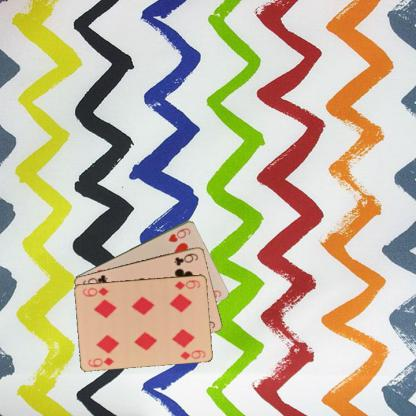6c: (172, 251, 199, 267)
6d: (172, 277, 202, 291), (85, 354, 115, 368)
6h: (165, 226, 192, 244)
